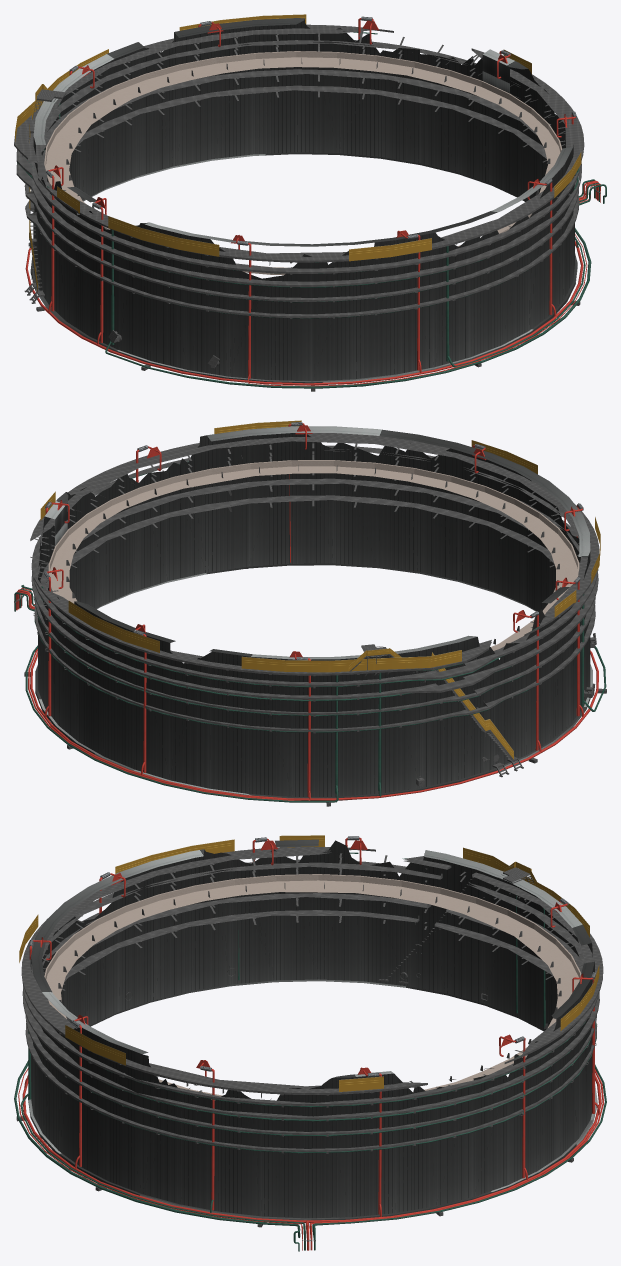
File: neifudingguan.FBX
3 renders of one model, top to bottom at view 1: azimuth 30°, elevation 25°; view 2: azimuth 150°, elevation 25°; view 3: azimuth 270°, elevation 25°, orthographic. The views are drawn at different scales.
Visible parts, largest first — view 1: Object02, Object03; view 2: Object02, Object03; view 3: Object02, Object03.
Boxes of the visible parts, x1,y1,x2,y2 form: Object02: [14, 14, 606, 391]; Object03: [16, 40, 584, 318]; Object02: [14, 420, 606, 806]; Object03: [30, 433, 599, 731]; Object02: [14, 835, 606, 1251]; Object03: [21, 847, 599, 1151].
Size of the model in its own units: 90.26 by 83.01 by 23.92.
